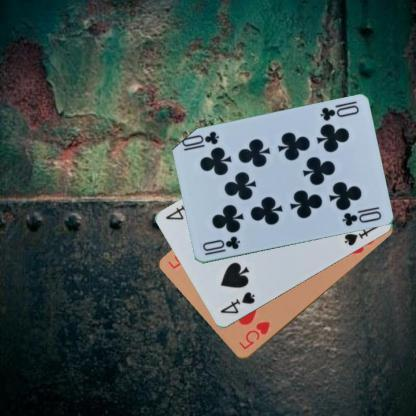10c: (199, 233, 242, 258), (317, 102, 360, 122)
4s: (217, 288, 257, 316)
5h: (236, 318, 274, 352)
